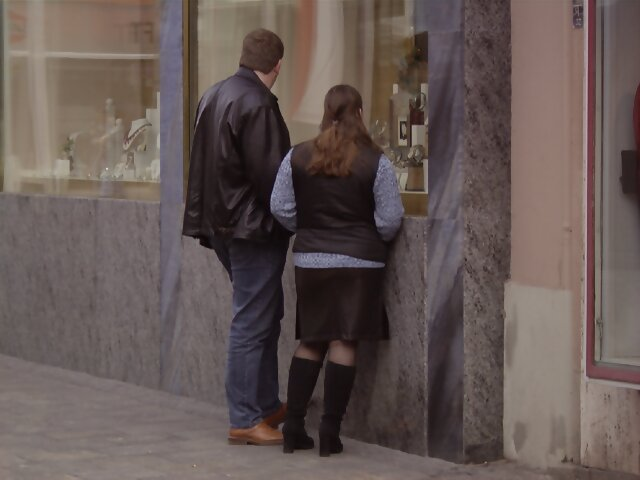person: (188, 24, 298, 455), (268, 81, 388, 450)
